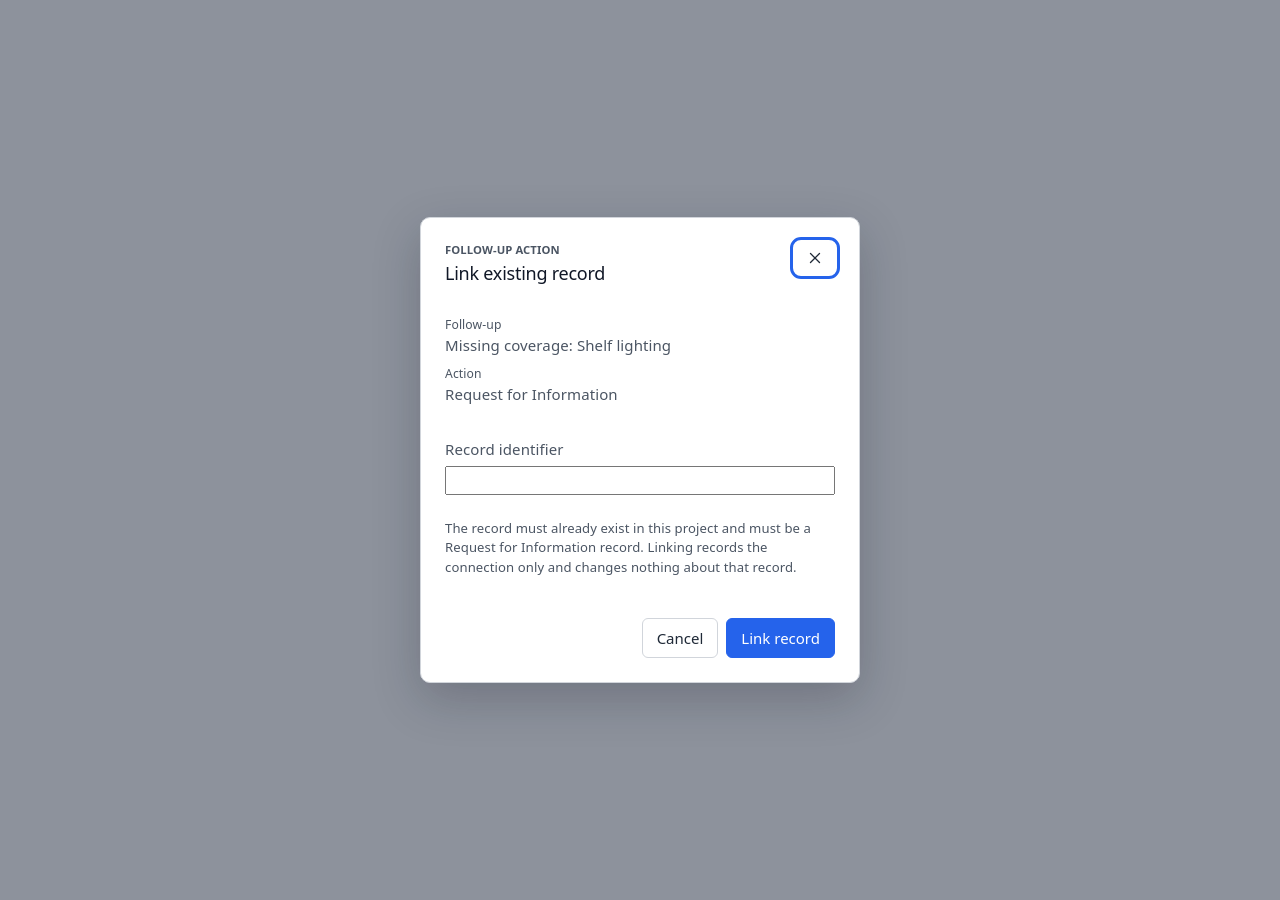
LinkFollowUpDialog › rejects a non-numeric identifier before any request
Type "RFI-001" into the field labelled "Record identifier".
click(640, 480); type("RFI-001")  # box x1=445 y1=466 x2=835 y2=494
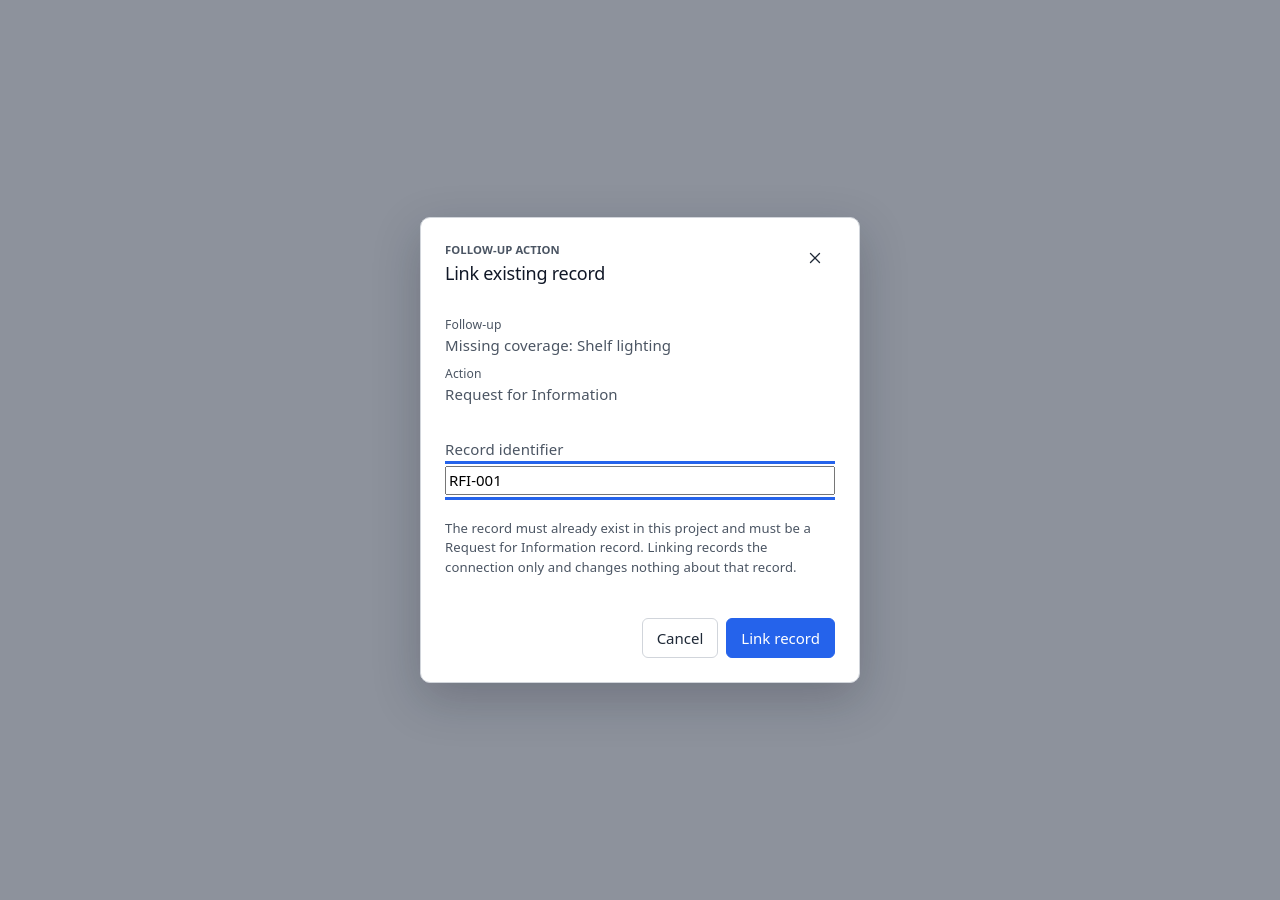
Click the button "Link record".
click(781, 638)  # box x1=726 y1=618 x2=835 y2=658
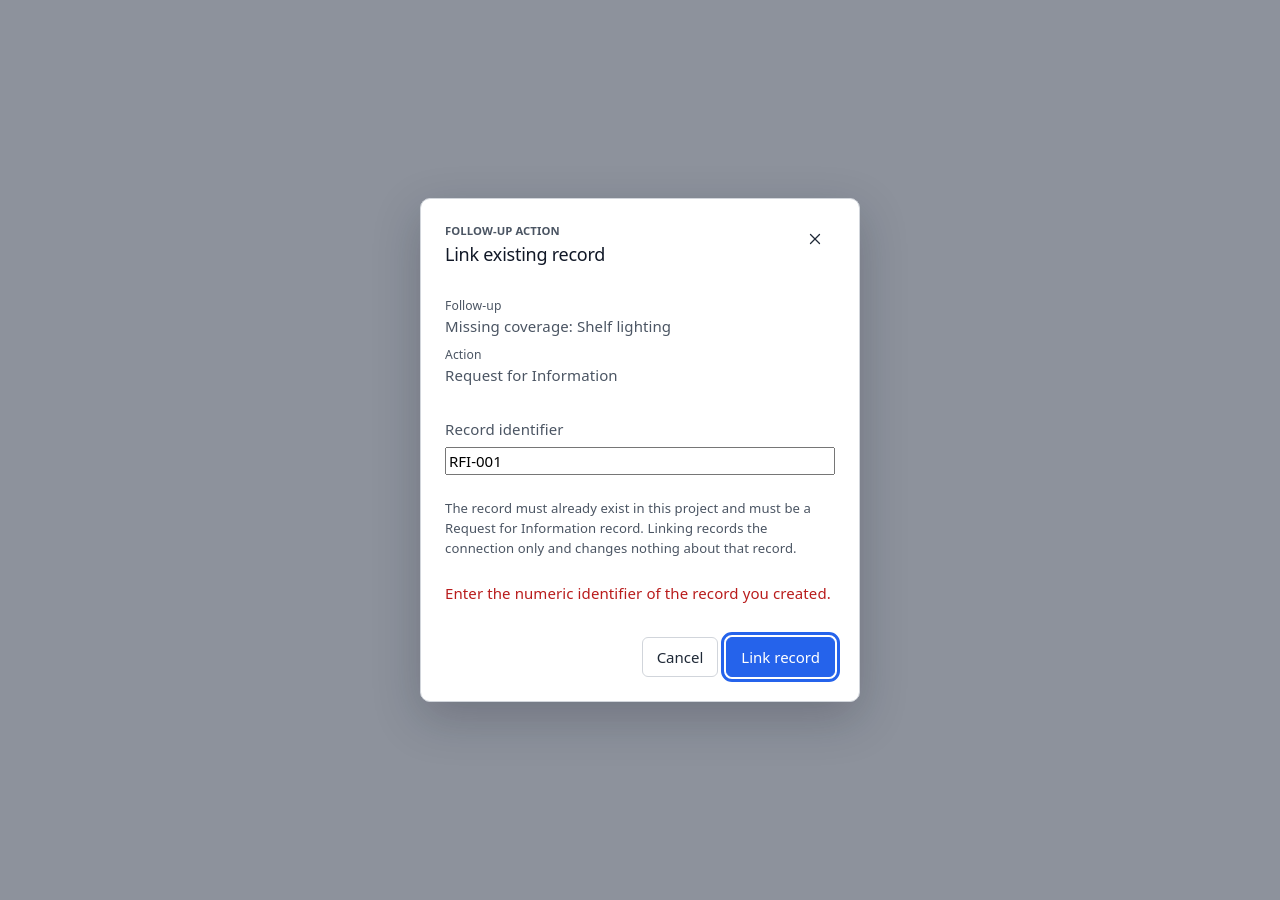
Expected: the message shows "Enter the numeric identifier", x1=445 y1=583 x2=831 y2=603
